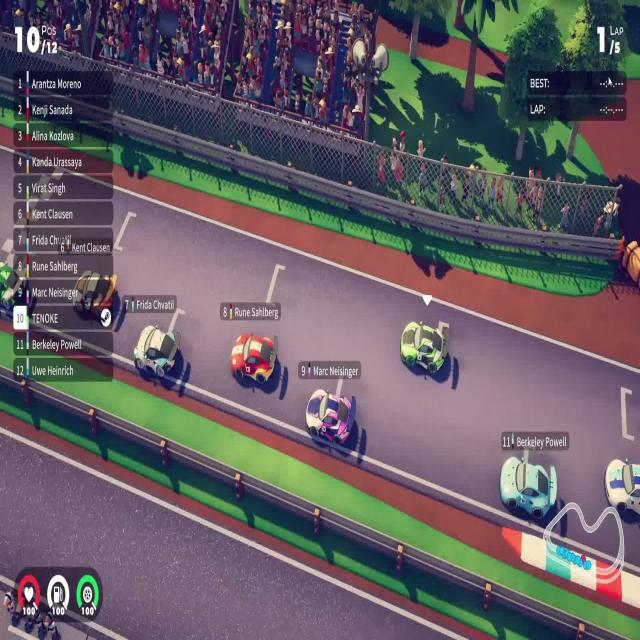car: (498, 454, 558, 520), (305, 386, 356, 446), (399, 318, 450, 375), (132, 323, 181, 381), (230, 330, 278, 386)
